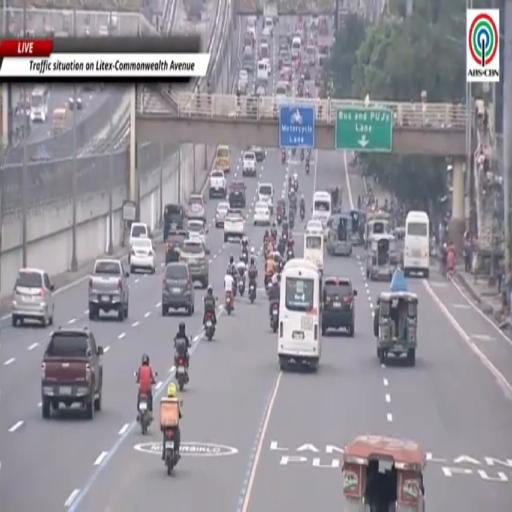bus: (278, 259, 321, 370), (403, 211, 429, 278), (303, 230, 323, 271), (30, 85, 49, 123), (312, 191, 331, 229)
car: (42, 328, 103, 419), (12, 268, 54, 327), (322, 277, 357, 337), (162, 262, 194, 315), (181, 239, 208, 287), (130, 238, 155, 274), (165, 230, 187, 264), (164, 204, 185, 239), (224, 209, 244, 242), (187, 219, 207, 246), (209, 169, 227, 198), (129, 222, 150, 246), (228, 181, 246, 207), (186, 195, 205, 219), (258, 184, 273, 213), (254, 202, 270, 226), (242, 151, 256, 177), (215, 202, 229, 228), (248, 146, 265, 163), (306, 219, 323, 235), (68, 96, 82, 110), (264, 16, 273, 36), (237, 79, 248, 95), (261, 58, 272, 74), (279, 35, 289, 51), (239, 70, 248, 84), (256, 85, 266, 97), (99, 25, 109, 37), (262, 27, 271, 39)
jeepney: (342, 436, 426, 511), (374, 292, 417, 365), (366, 234, 397, 280), (327, 214, 352, 255), (365, 212, 392, 248), (350, 210, 366, 246), (215, 144, 230, 173), (52, 108, 67, 136), (394, 227, 405, 262)
motorcycle: (137, 393, 152, 435), (138, 394, 152, 435), (165, 429, 176, 475), (176, 358, 188, 390), (205, 312, 214, 341), (270, 303, 278, 332), (225, 292, 233, 314), (264, 272, 272, 294), (249, 281, 256, 303), (233, 272, 238, 297), (239, 277, 245, 296), (242, 250, 248, 264), (287, 248, 293, 261), (289, 215, 294, 230), (300, 207, 305, 221), (305, 162, 310, 175), (277, 214, 282, 225), (293, 181, 298, 191), (282, 151, 285, 164), (301, 150, 304, 162), (292, 148, 296, 155)
truck: (89, 260, 129, 321)
